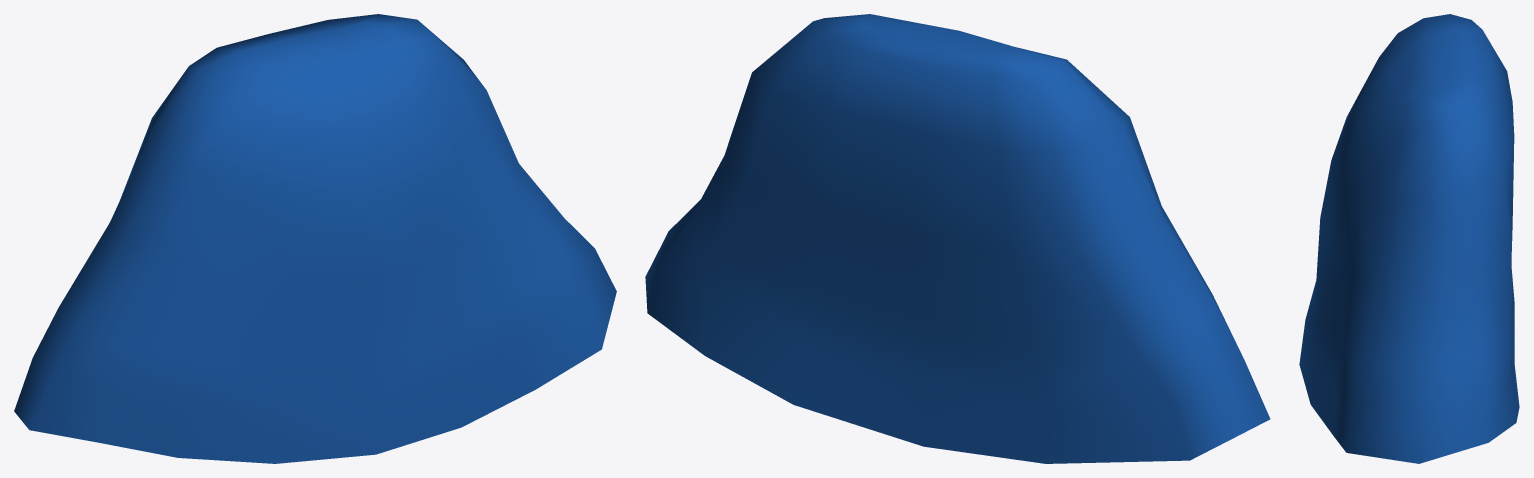
File: Solar_chara_poncho_03.fbx
3 views of the same model, side by side, from view 1: azimuth 30°, elevation 25°; view 2: azimuth 150°, elevation 25°; view 3: azimuth 270°, elevation 25° (orthographic). The views are drawn at different scales.
Parts seen in each view (by area): view 1: pDisc2; view 2: pDisc2; view 3: pDisc2.
Part boxes in pixels (x1,y1,x2,y2): pDisc2: (14,14,616,463); pDisc2: (645,14,1270,463); pDisc2: (1299,14,1519,463).
Size of the model in its own units: 71.15 by 41.11 by 25.67.
